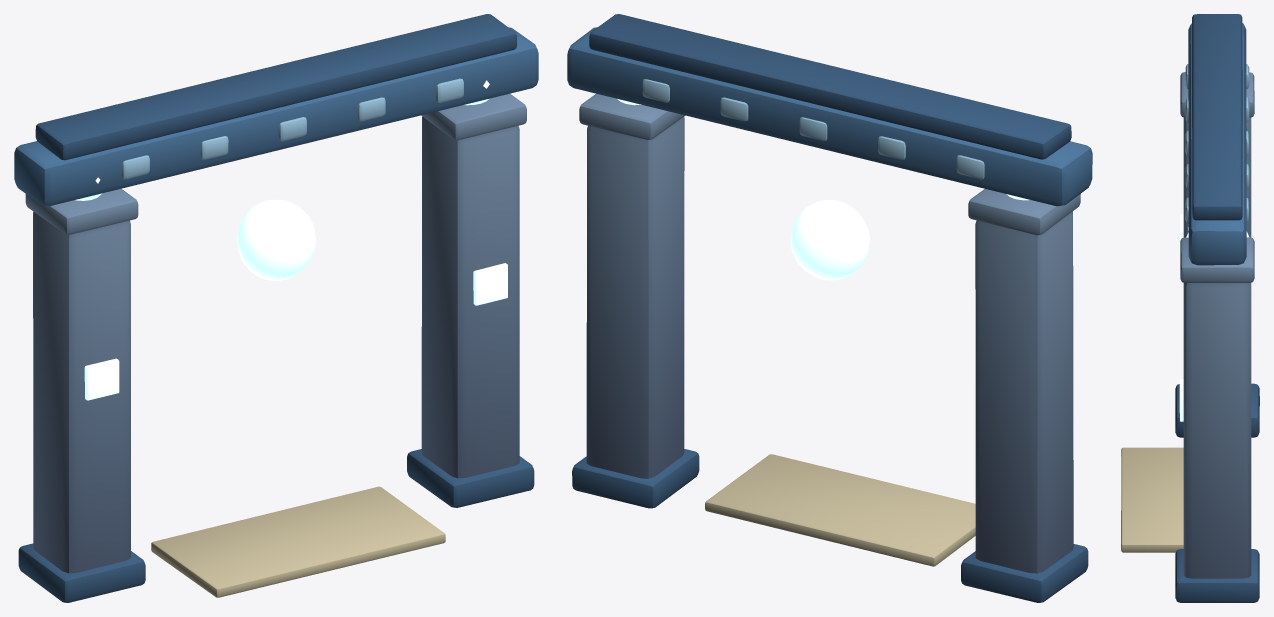
3 renders of one model, left to right at view 1: azimuth 30°, elevation 25°; view 2: azimuth 150°, elevation 25°; view 3: azimuth 270°, elevation 25°, orthographic. The views are drawn at different scales.
Parts seen in each view (by area): view 1: gate_34035eff; view 2: gate_34035eff; view 3: gate_34035eff.
Part boxes in pixels (box(x1,y1,x2,y2)): gate_34035eff: box(14, 14, 538, 602); gate_34035eff: box(567, 14, 1092, 602); gate_34035eff: box(1121, 14, 1259, 602).
Bounding box in the file's own units: 5.21 × 4.53 × 1.44.
